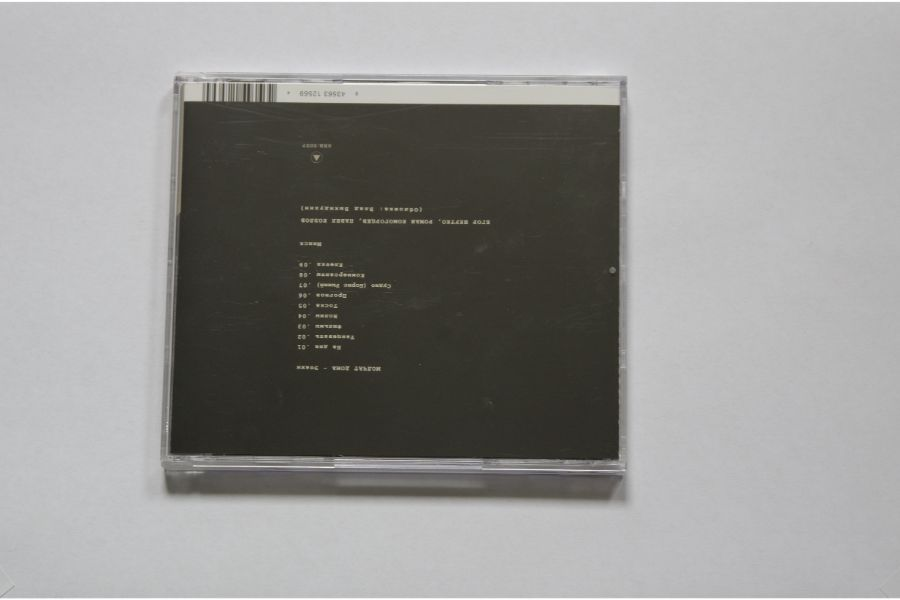album: (158, 72, 635, 479)
